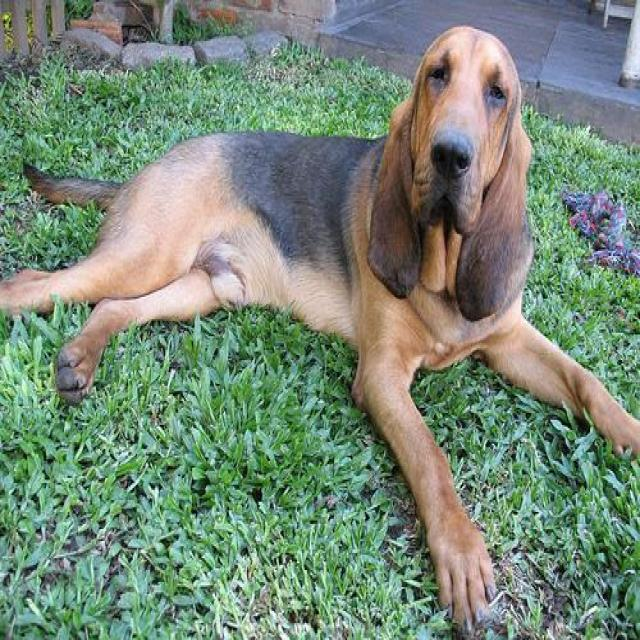bloodhound: (1, 22, 638, 633)
